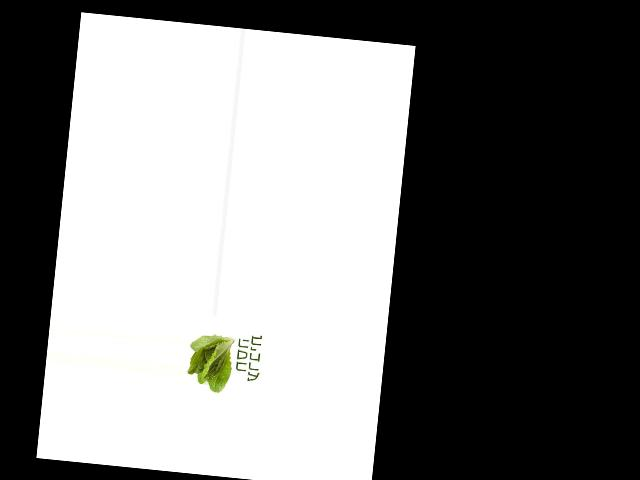lettuce: (185, 328, 240, 394)
